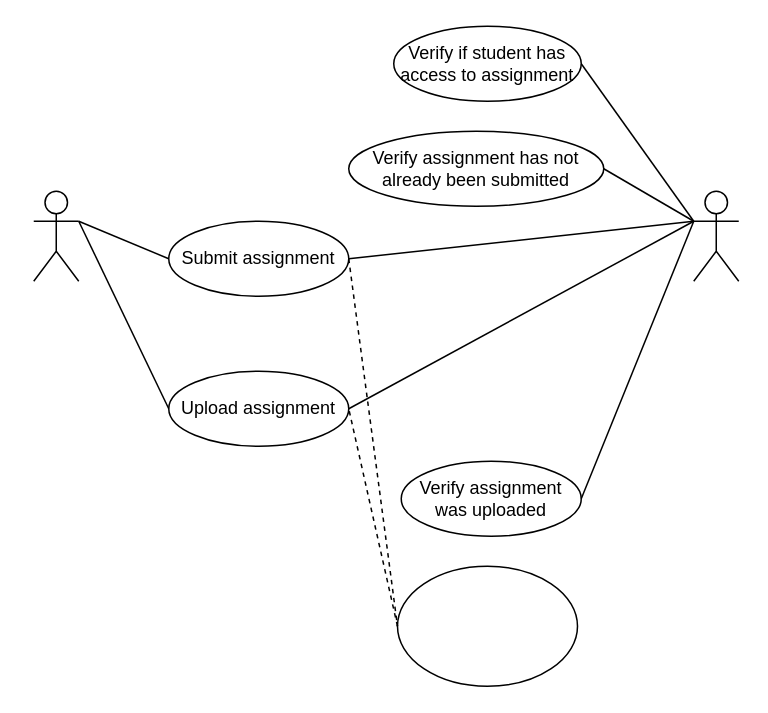
The diagram is 768 pixels wide and 713 high, and some of its shapes have lost their labels. The shapes that lost their labels are listed below. From the top down, each one's centre as x and y in pixels, then its label:
the point at 55,235: Student
the point at 715,235: Server
the point at 487,625: Verify if submitted assignment is not empty
